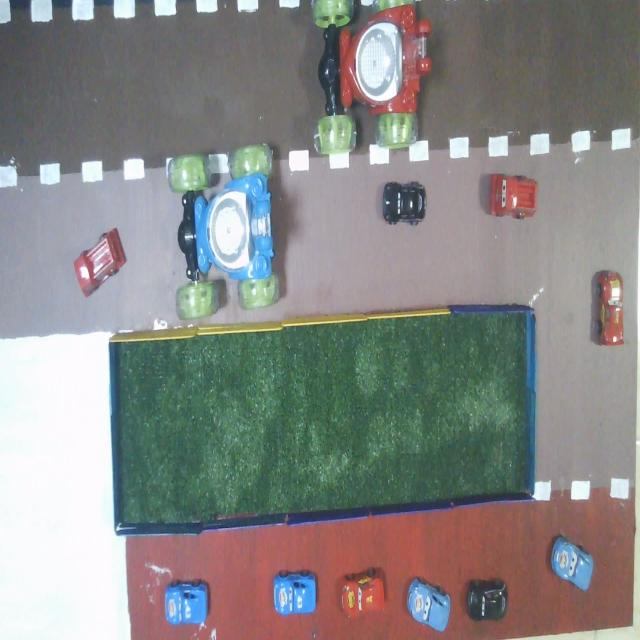driver car f: (168, 144, 279, 319)
small cars: (597, 271, 623, 346)
